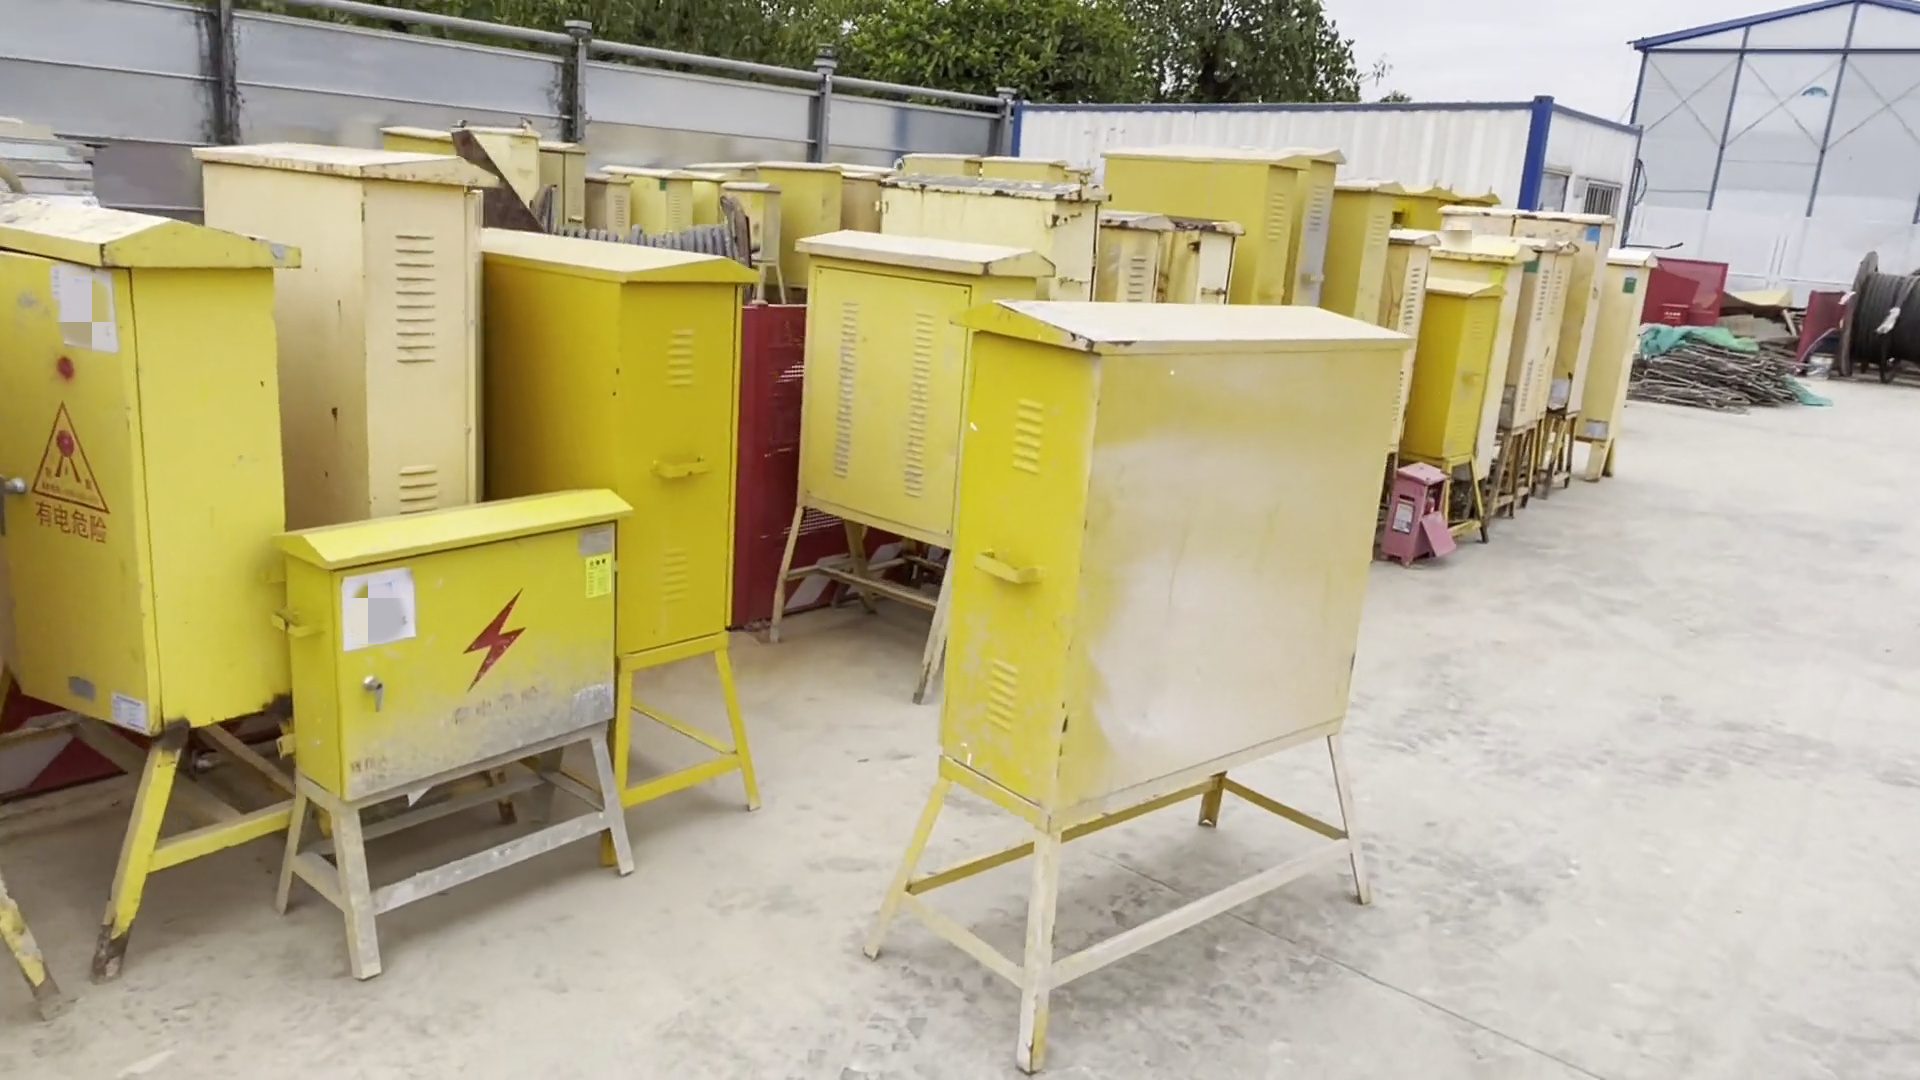ebox: (876, 289, 1408, 1052), (7, 182, 319, 1007), (258, 472, 651, 982), (485, 204, 767, 822), (175, 127, 487, 512), (765, 222, 975, 679), (1105, 135, 1282, 309), (1412, 281, 1511, 487), (1582, 270, 1681, 473), (1323, 167, 1404, 320)
